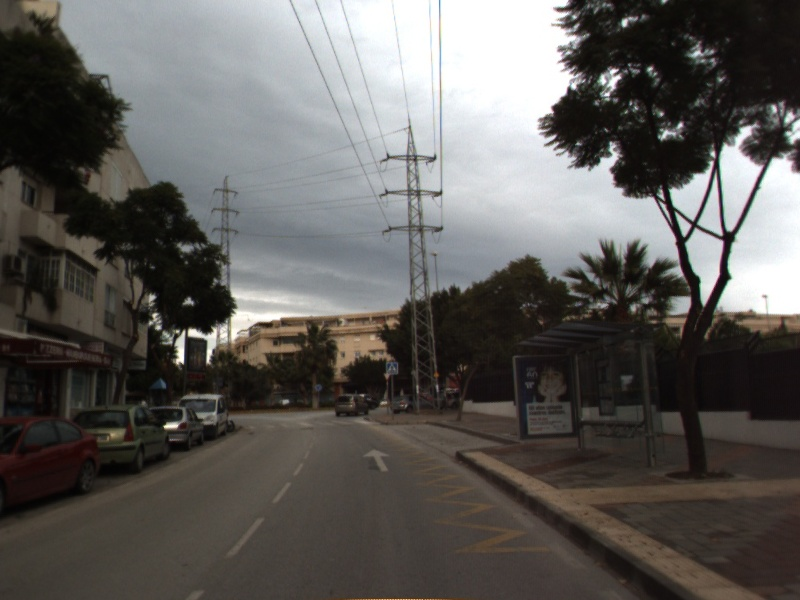STRAIGHT: (361, 447, 392, 473)
